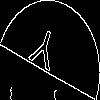Y: (25, 25, 60, 80)
